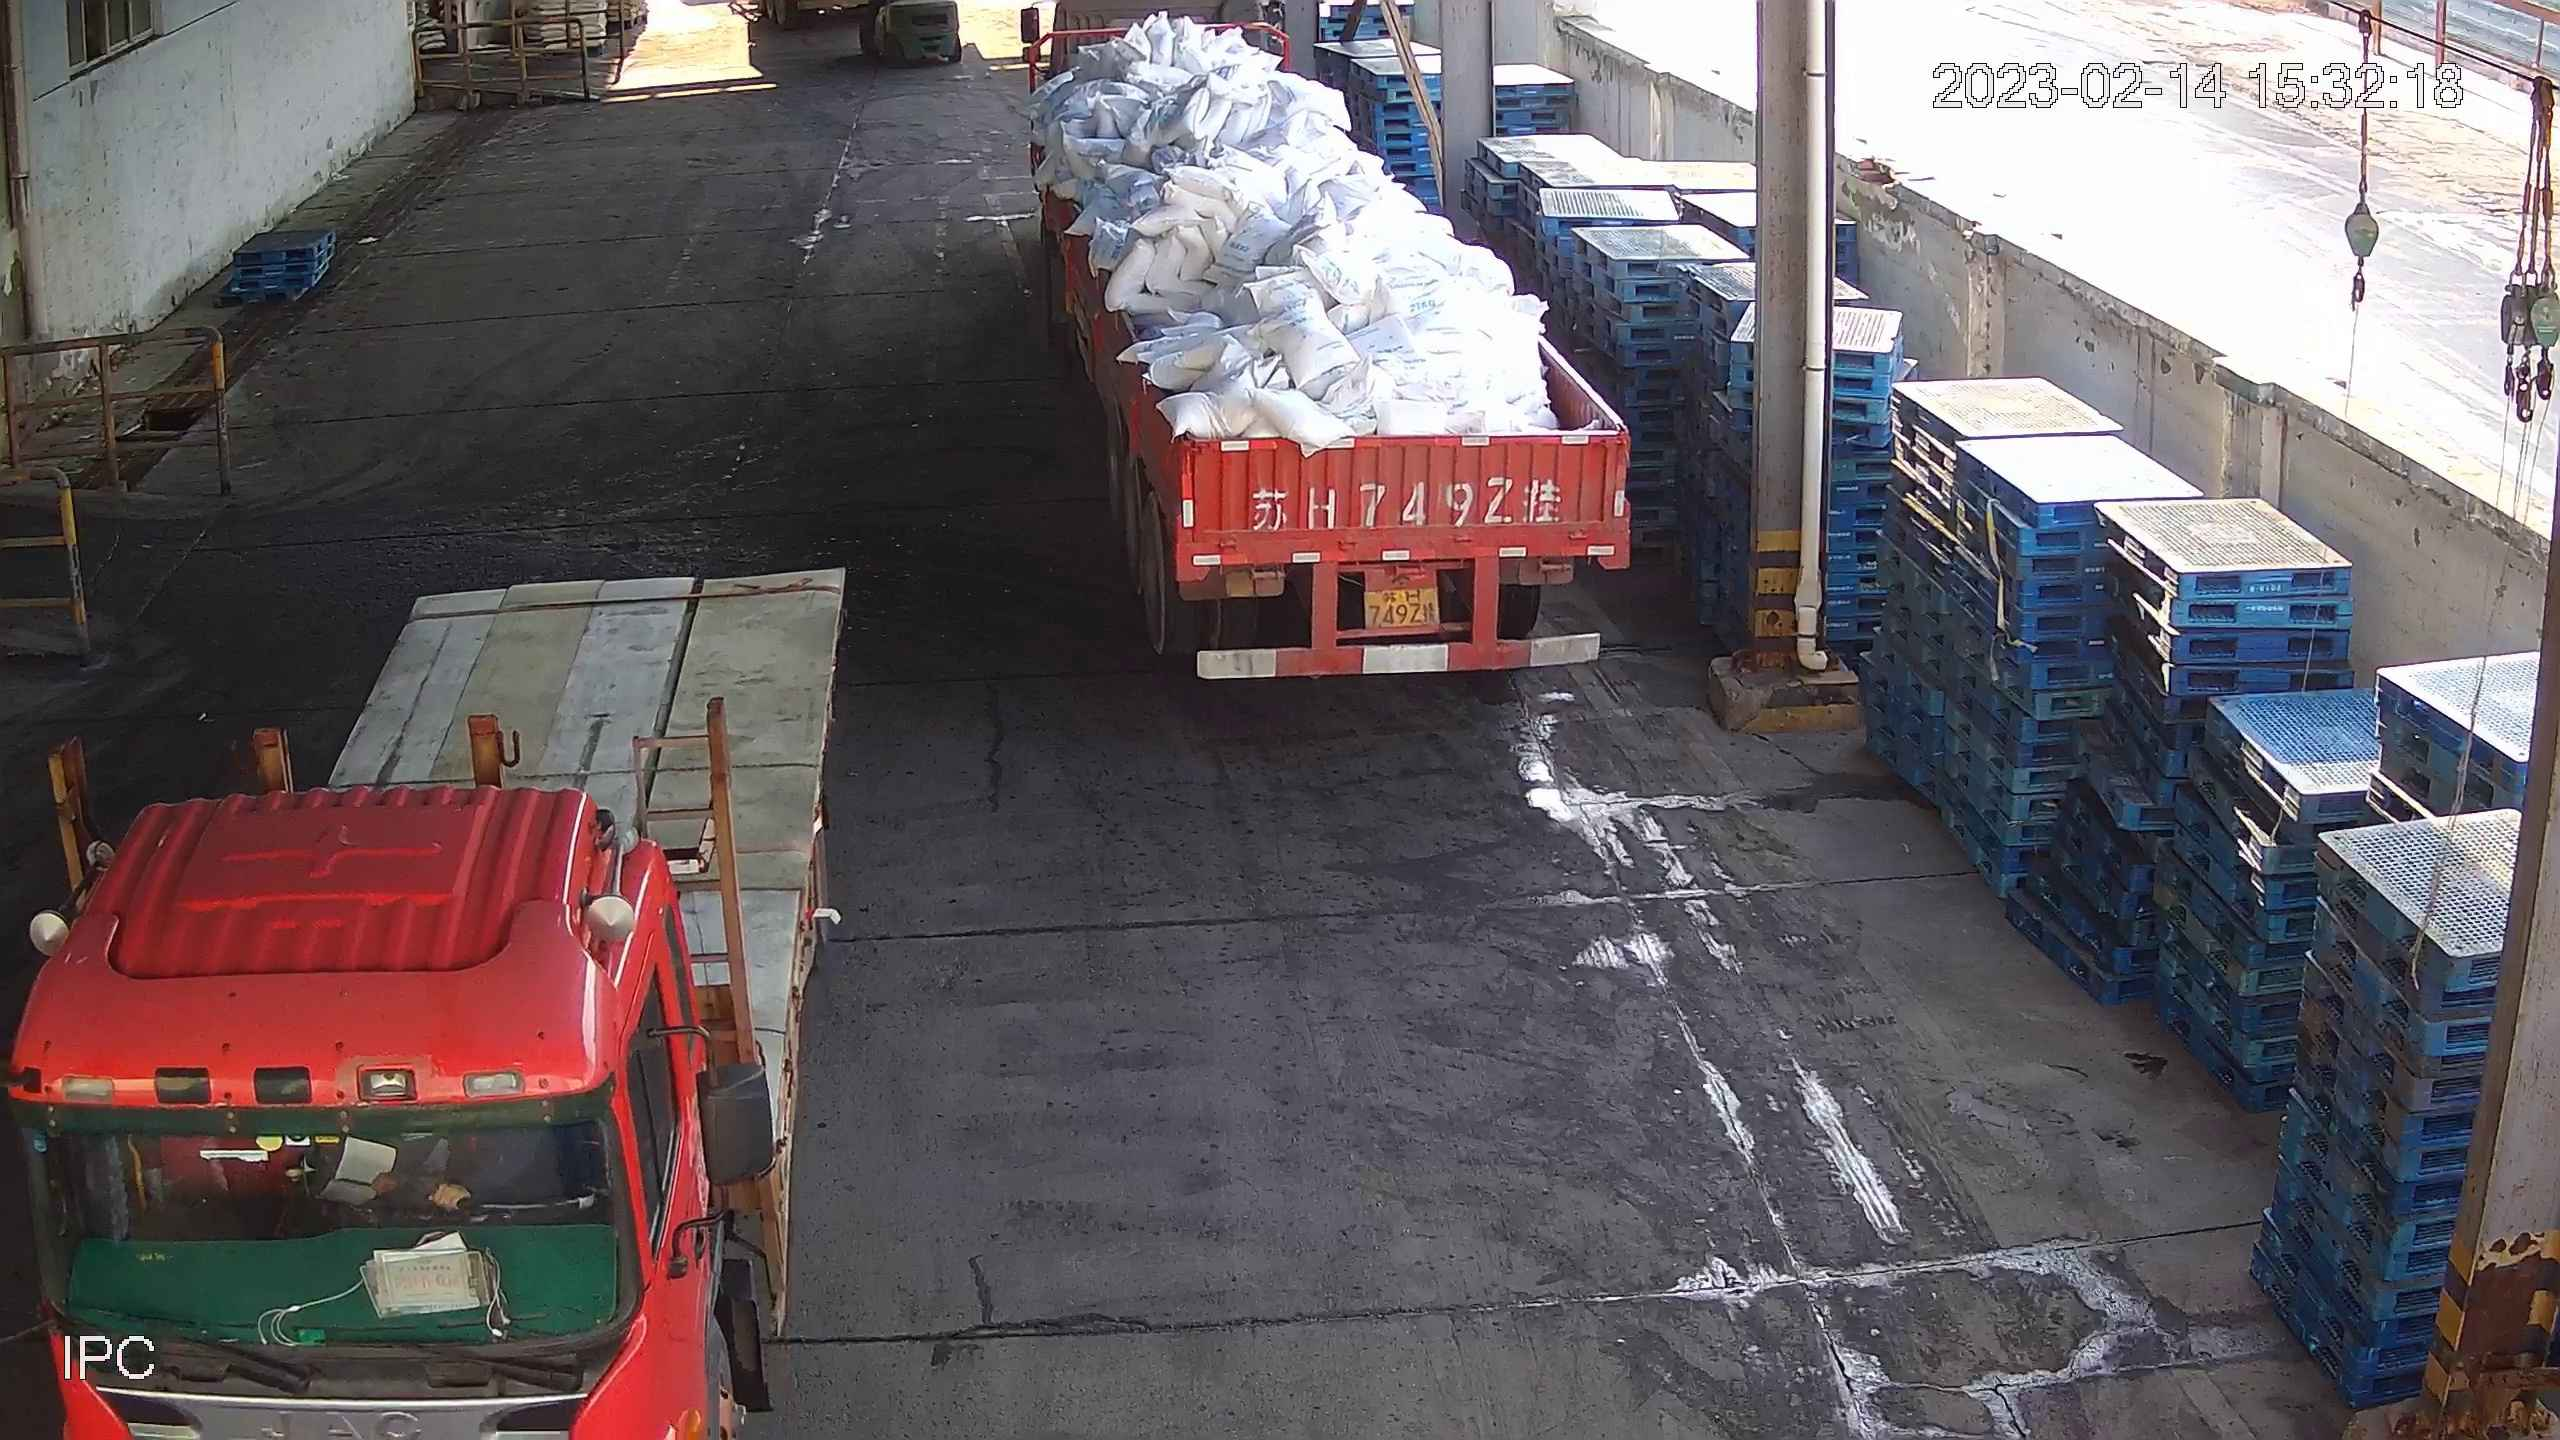truck: (0, 566, 846, 1440), (1018, 0, 1628, 679)
